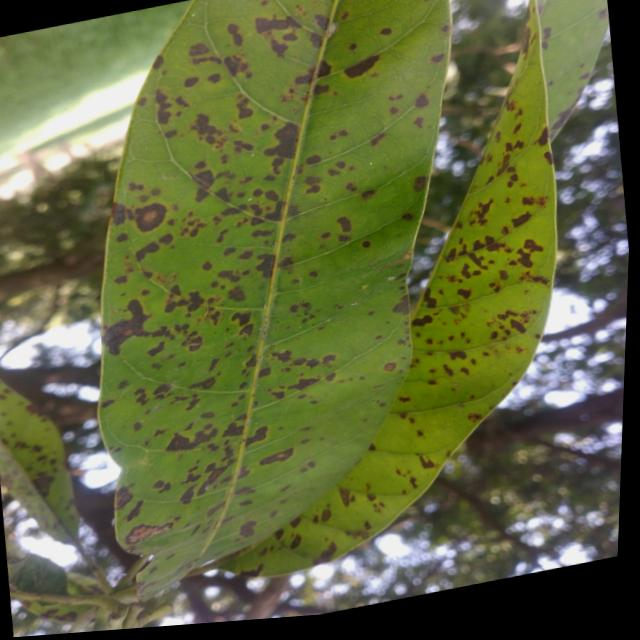Anthracnose: (92, 296, 156, 357), (121, 513, 174, 547), (264, 117, 301, 161), (192, 459, 231, 497), (186, 110, 224, 148), (130, 199, 170, 233), (110, 307, 150, 339), (342, 52, 383, 81), (253, 14, 301, 34), (166, 431, 197, 461), (221, 49, 251, 79), (107, 483, 136, 511), (257, 447, 295, 468), (311, 542, 340, 569), (153, 87, 173, 125), (191, 164, 218, 191), (241, 424, 271, 447), (391, 292, 416, 319), (132, 239, 160, 262), (221, 419, 245, 444), (124, 497, 146, 524), (254, 251, 275, 279), (224, 20, 245, 47), (188, 375, 216, 394), (177, 482, 199, 506), (334, 483, 356, 507), (239, 562, 266, 581), (186, 39, 209, 60), (225, 284, 247, 305), (287, 377, 320, 391), (237, 517, 257, 540), (534, 125, 554, 147), (313, 59, 333, 81), (310, 10, 331, 30), (510, 210, 533, 228), (109, 202, 127, 225), (417, 451, 436, 471), (336, 213, 354, 234), (146, 340, 167, 358), (410, 313, 433, 329), (268, 39, 288, 57), (411, 92, 430, 110), (507, 317, 527, 334), (368, 129, 386, 147), (455, 283, 473, 300), (150, 54, 166, 71), (288, 533, 303, 551), (447, 349, 467, 362), (413, 174, 425, 192), (382, 360, 398, 373), (429, 53, 444, 63), (467, 413, 481, 422), (284, 0, 309, 0)
